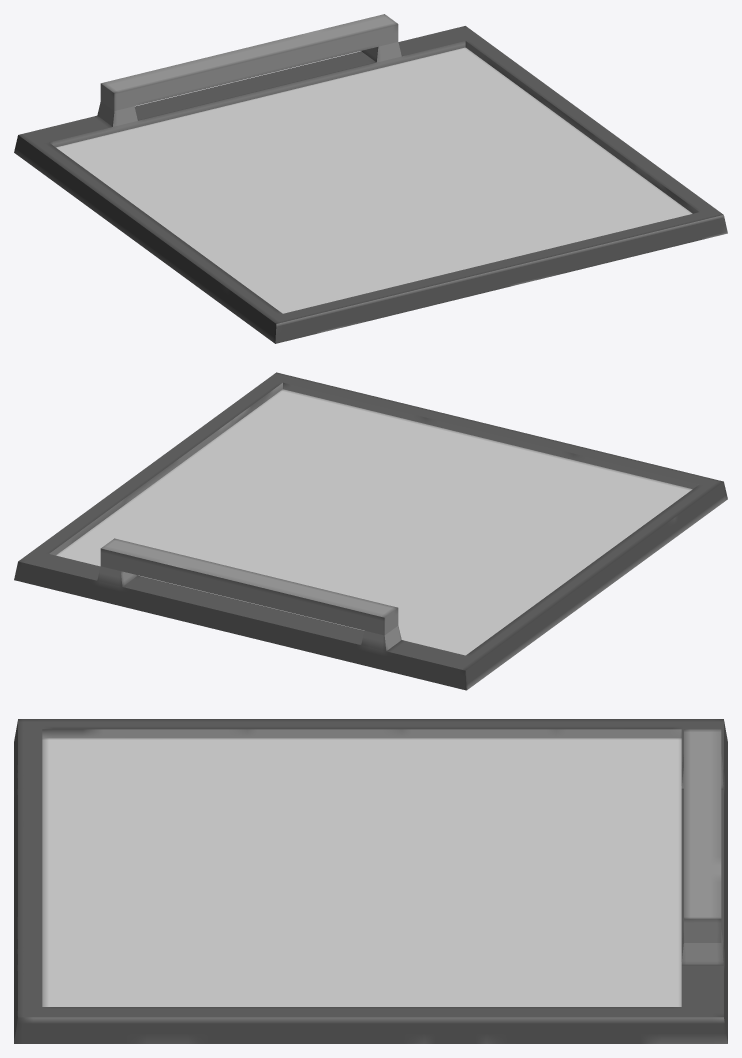
File: Panel_A.fbx
3 renders of one model, top to bottom at view 1: azimuth 30°, elevation 25°; view 2: azimuth 150°, elevation 25°; view 3: azimuth 270°, elevation 25°, orthographic. The views are drawn at different scales.
Parts seen in each view (by area): view 1: Panel_A; view 2: Panel_A; view 3: Panel_A.
Boxes of the visible parts, left/top/right/bottom form: Panel_A: left=14, top=14, right=727, bottom=343; Panel_A: left=14, top=372, right=727, bottom=690; Panel_A: left=14, top=719, right=727, bottom=1043.
Size of the model in its own units: 200 by 21.33 by 200.
